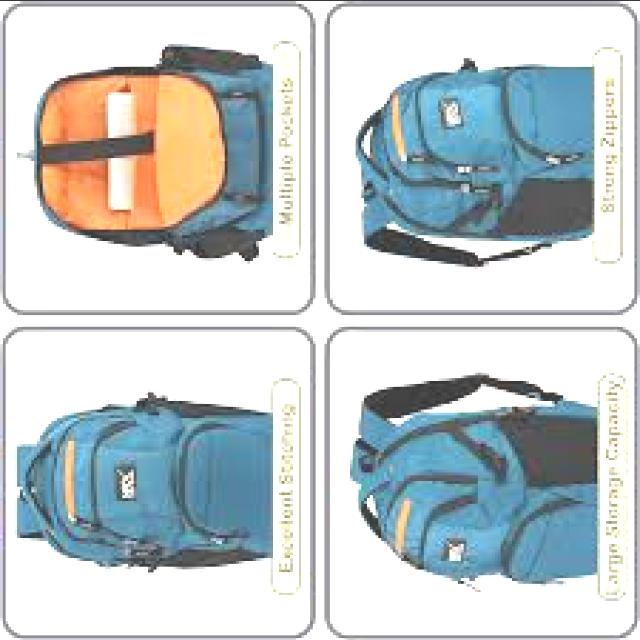backpack: (21, 47, 274, 264), (348, 376, 598, 590), (354, 62, 596, 270), (18, 396, 274, 573)
